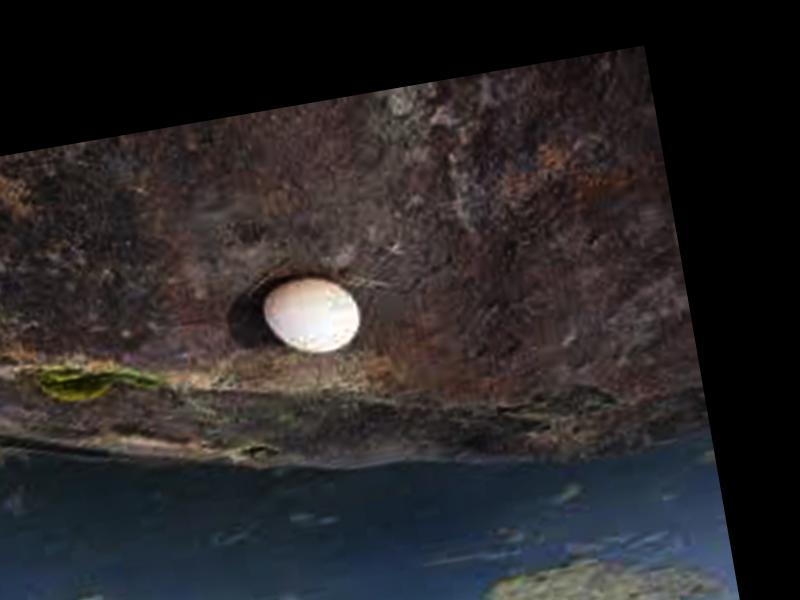Eggs: (260, 270, 370, 363)
